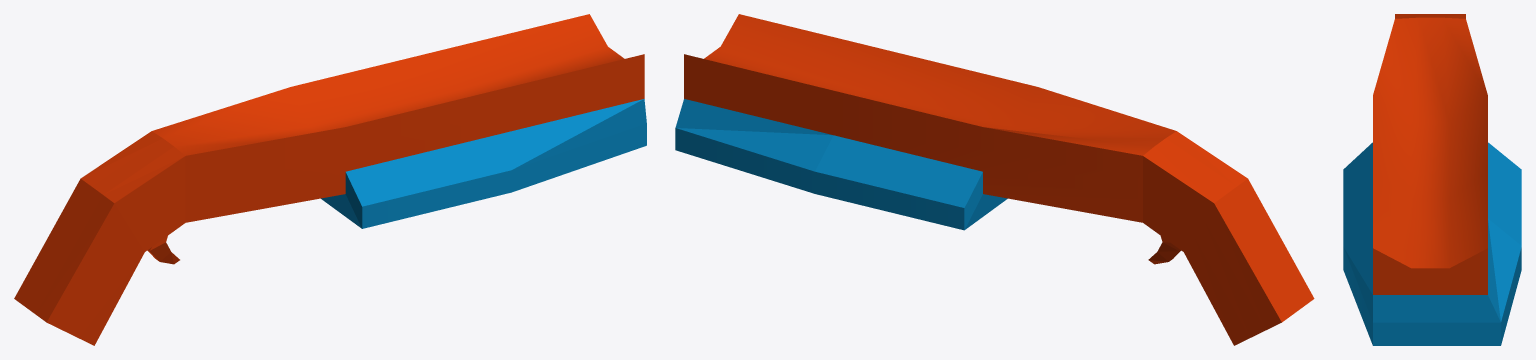
File: weapon_v1.FBX
3 renders of one model, left to right at view 1: azimuth 30°, elevation 25°; view 2: azimuth 150°, elevation 25°; view 3: azimuth 270°, elevation 25°, orthographic. The views are drawn at different scales.
Visible parts, largest first — view 1: Box001; view 2: Box001; view 3: Box001.
Part boxes in pixels (x1,y1,x2,y2): Box001: (14, 14, 646, 345); Box001: (675, 14, 1314, 345); Box001: (1343, 14, 1521, 345).
Size of the model in its own units: 32.83 by 9.03 by 8.23.
